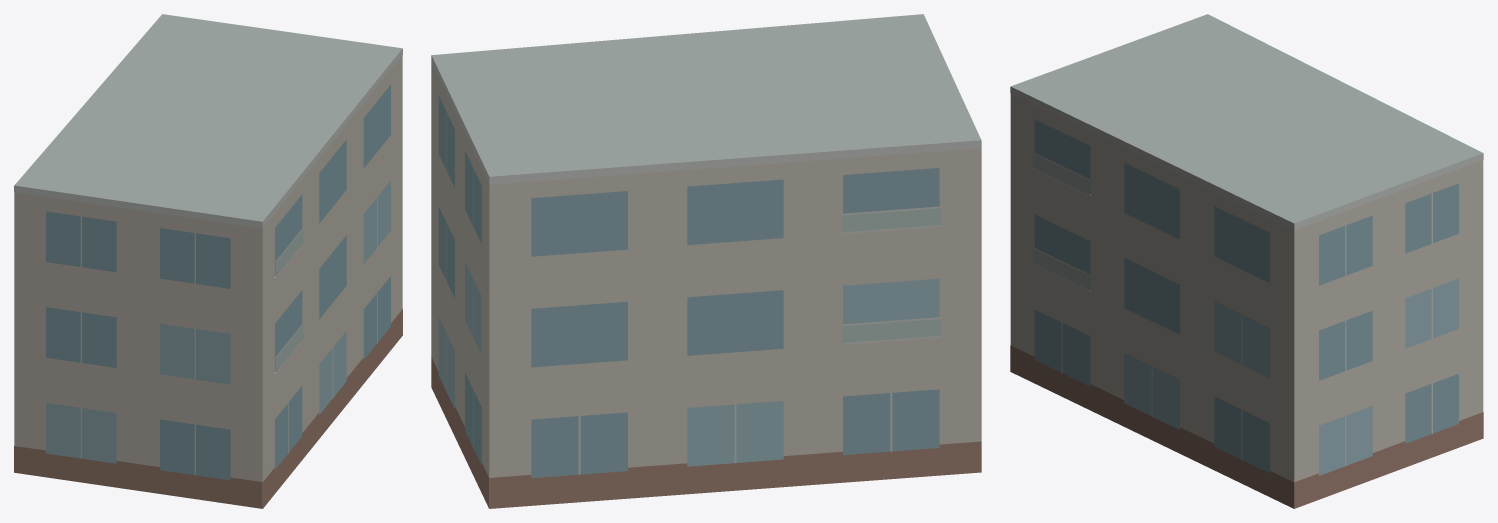
The model's file is survey-upis-32991881.glb.
The picture shows the model from 3 angles, left to right: view 1: azimuth 30°, elevation 25°; view 2: azimuth 150°, elevation 25°; view 3: azimuth 270°, elevation 25°; orthographic projection. The views are drawn at different scales.
Visible parts, largest first — view 1: survey-upis-32991881.tmp; view 2: survey-upis-32991881.tmp; view 3: survey-upis-32991881.tmp.
Part boxes in pixels (x1,y1,x2,y2): survey-upis-32991881.tmp: (14, 14, 402, 508); survey-upis-32991881.tmp: (431, 14, 981, 508); survey-upis-32991881.tmp: (1010, 14, 1483, 508).
Size of the model in its own units: 16.07 by 10.2 by 15.33.
